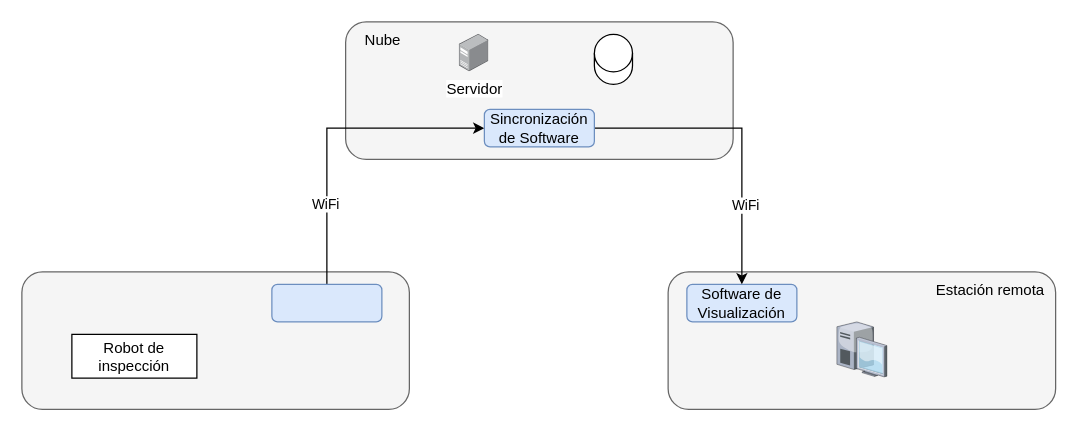
The diagram is 1078 pixels wide and 431 high, and some of its shapes have lost their labels. The shapes that lost their labels are listed below. From the top down, each one's centre as x and y in pixels, then its label:
At pixel 326 302: "Software de control robot".
At pixel 861 348: "Desktop".
